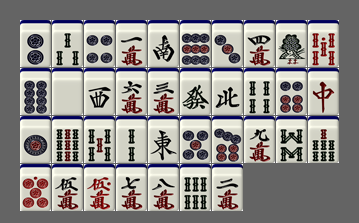0m: (84, 164, 115, 211)
0p: (20, 164, 51, 211)
0s: (308, 20, 339, 67)
1m: (116, 20, 147, 67)
1p: (20, 116, 51, 163)
1s: (276, 20, 307, 67)
1z: (148, 116, 179, 163)
2m: (212, 164, 243, 211)
2p: (20, 20, 51, 67)
2s: (116, 116, 147, 163)
2z: (148, 20, 179, 67)
3m: (148, 68, 179, 115)
3p: (212, 20, 243, 67)
3s: (52, 20, 83, 67)
3z: (84, 68, 115, 115)
4m: (244, 20, 275, 67)
4p: (84, 20, 115, 67)
4s: (244, 68, 275, 115)
4z: (212, 68, 243, 115)
5m: (52, 164, 83, 211)
5p: (180, 116, 211, 163)
5s: (84, 116, 115, 163)
5z: (52, 68, 83, 115)
6m: (116, 68, 147, 115)
6p: (276, 68, 307, 115)
6s: (180, 164, 211, 211)
6z: (180, 68, 211, 115)
7m: (116, 164, 147, 211)
7p: (212, 116, 243, 163)
7s: (308, 116, 339, 163)
7z: (308, 68, 339, 115)
8m: (148, 164, 179, 211)
8p: (20, 68, 51, 115)
8s: (276, 116, 307, 163)
9m: (244, 116, 275, 163)
9p: (180, 20, 211, 67)
9s: (52, 116, 83, 163)
